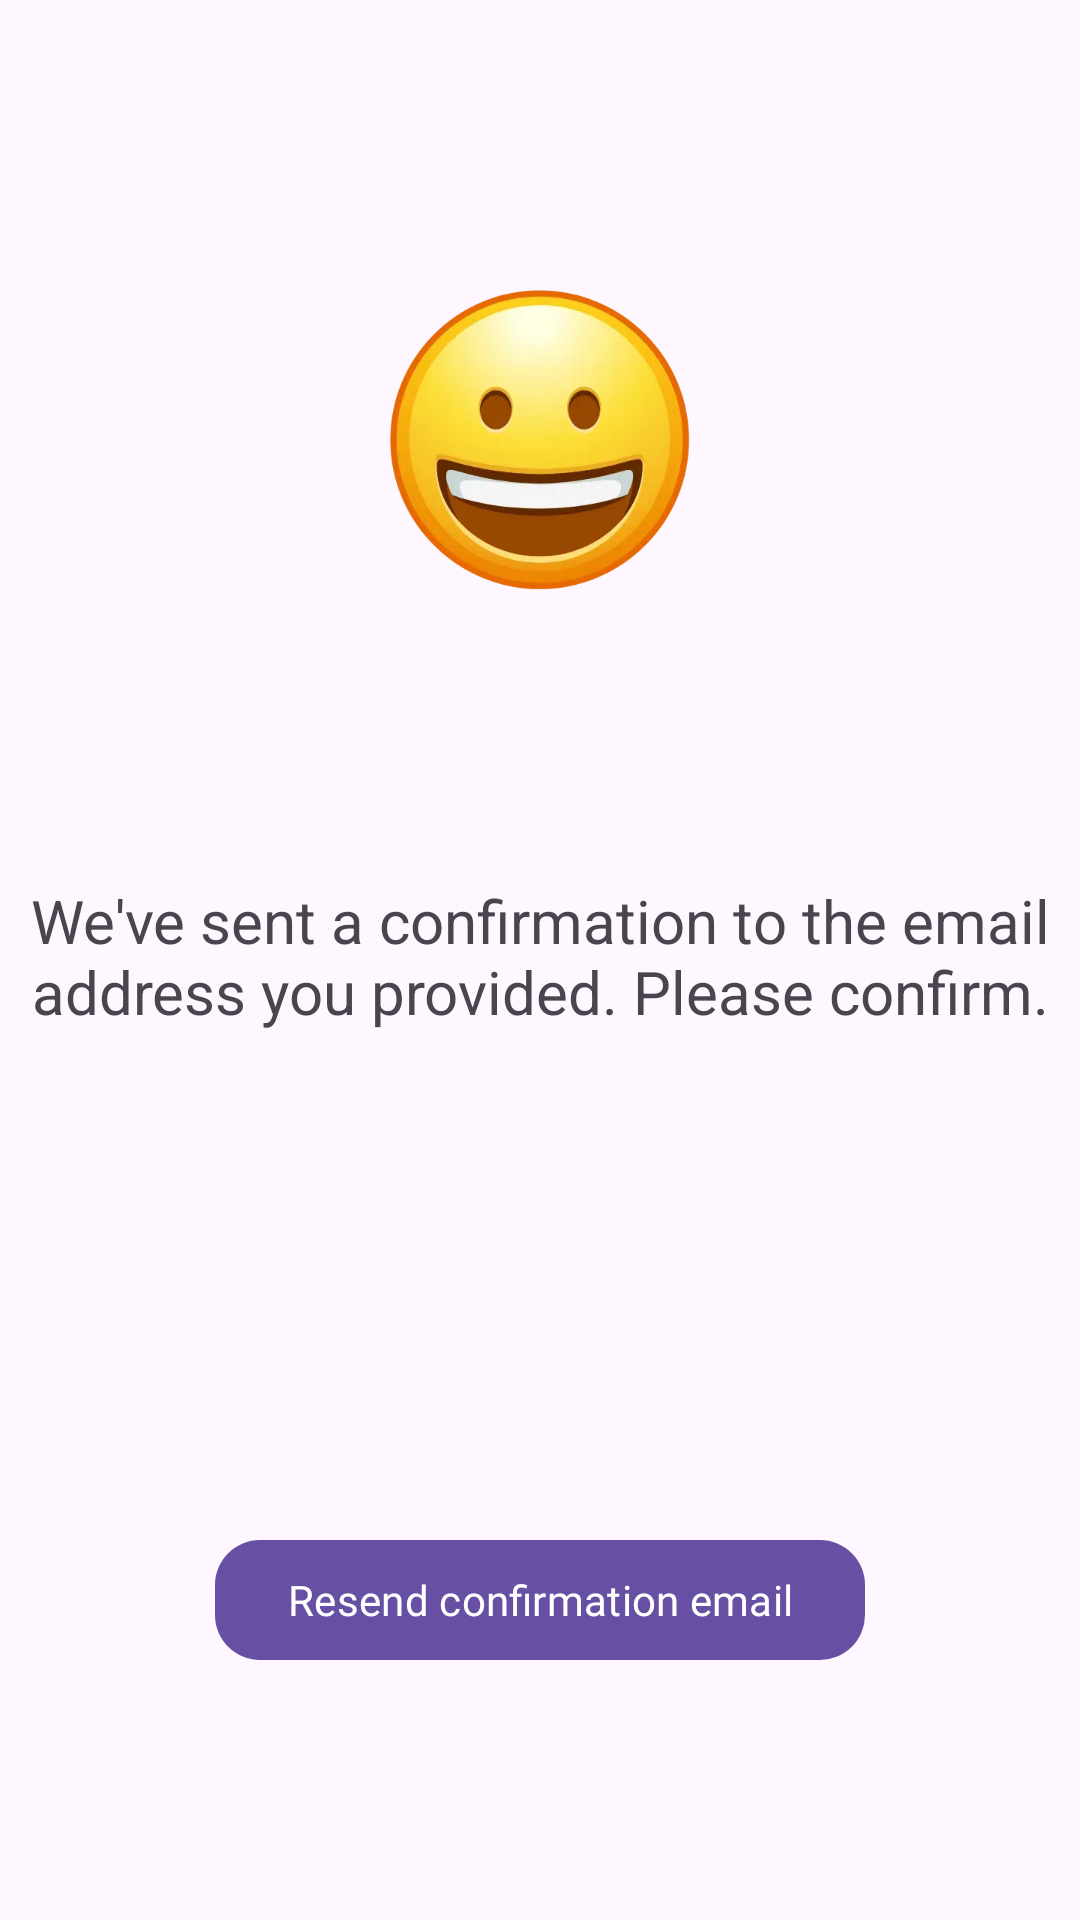

Where icons sit on this 1080w x 1920h app screen, as (left=x1, top=y1, right=x2, bottom=y2):
smile: (left=390, top=290, right=690, bottom=590)
